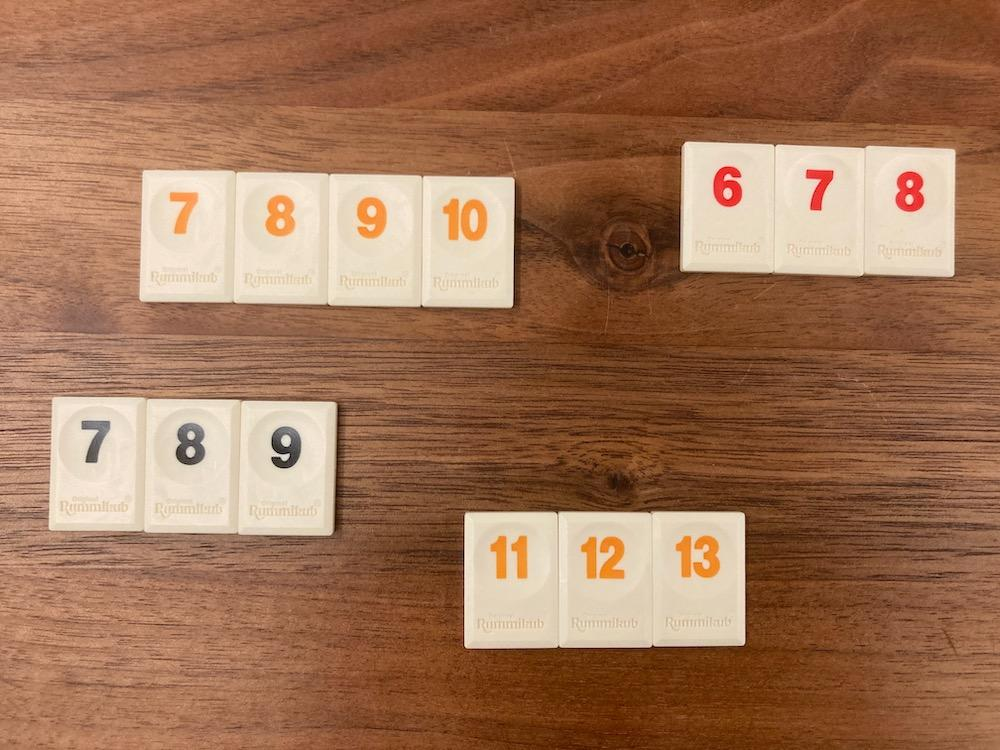black_7: (49, 398, 146, 531)
black_8: (145, 400, 240, 532)
black_9: (238, 402, 336, 535)
orange_10: (422, 176, 514, 307)
orange_11: (465, 512, 559, 647)
orange_12: (559, 512, 652, 648)
orange_13: (652, 512, 746, 646)
orange_7: (141, 172, 234, 301)
orange_8: (234, 172, 328, 304)
orange_9: (328, 176, 422, 306)
red_6: (680, 143, 775, 272)
red_7: (773, 145, 865, 275)
red_8: (865, 146, 955, 276)
